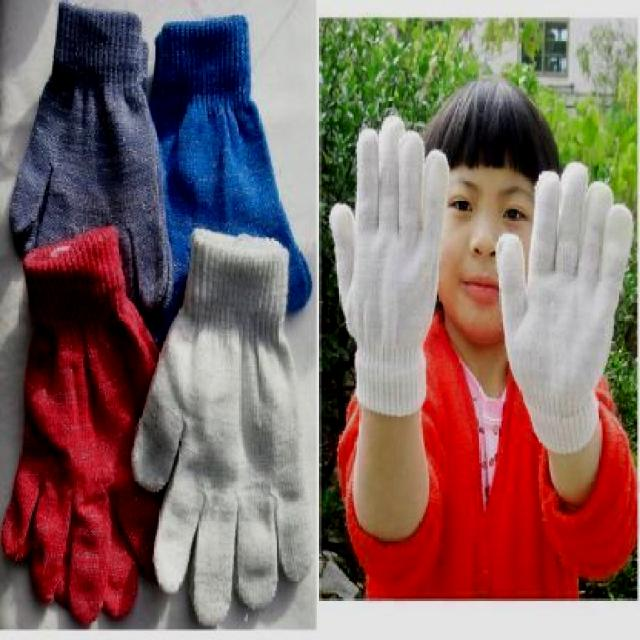face_nomask: (432, 162, 550, 332)
hand_glove: (496, 158, 636, 414), (326, 111, 452, 380)
head_nohelmet: (412, 72, 568, 176)
person: (320, 53, 637, 602)
